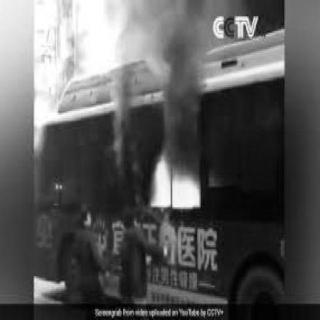Fire: (116, 128, 246, 248)
Smoke: (119, 0, 240, 140)
